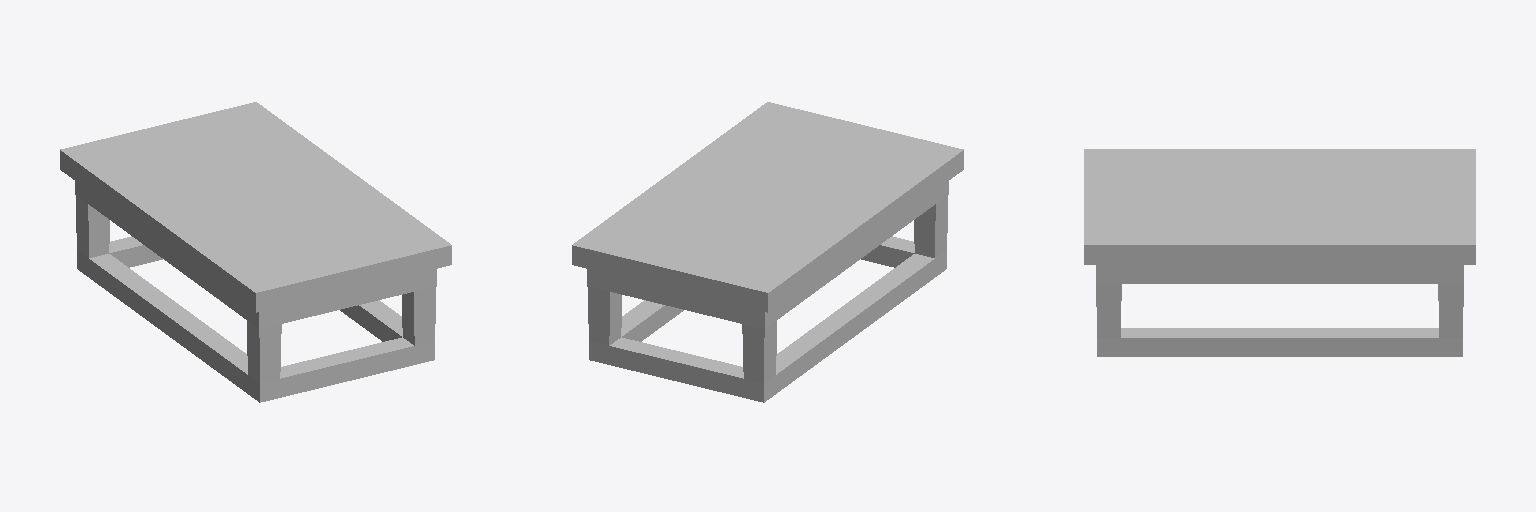
The model's file is Coffee_Table_2.obj.
3 views of the same model, side by side, from view 1: azimuth 30°, elevation 25°; view 2: azimuth 150°, elevation 25°; view 3: azimuth 270°, elevation 25° (orthographic).
Visible parts, largest first — view 1: Coffee_Table_2; view 2: Coffee_Table_2; view 3: Coffee_Table_2.
Boxes of the visible parts, x1=… form: Coffee_Table_2: x1=60, y1=102, x2=451, y2=402; Coffee_Table_2: x1=572, y1=102, x2=963, y2=402; Coffee_Table_2: x1=1084, y1=149, x2=1475, y2=356.
Bounding box in the file's own units: 0.5889 × 0.3352 × 1.02.